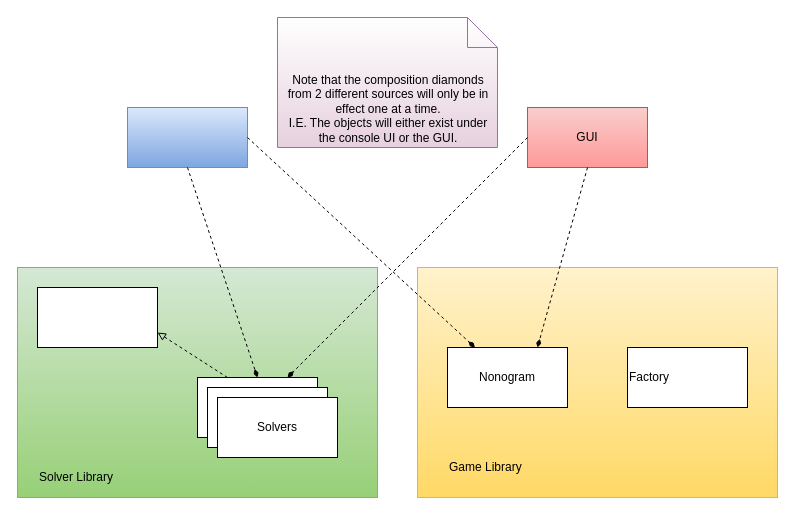
The diagram is 795 pixels wide and 515 high, and some of its shapes have lost their labels. The centre of each missing label's shape, as x and y in pixels:
"<<Interface>> Solver" belongs at (97,317).
"Console UI" belongs at (187,137).
